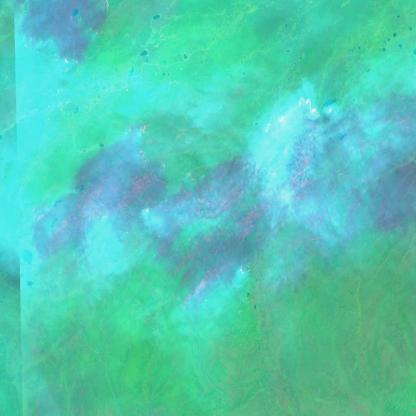fire: (36, 114, 268, 293)
